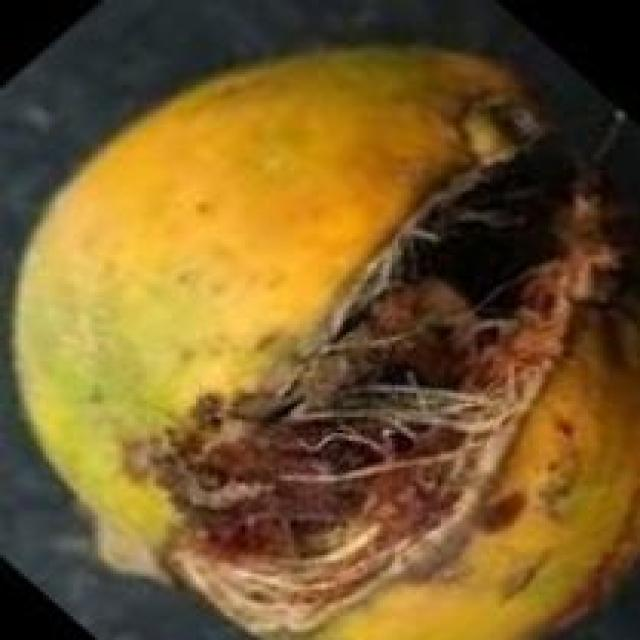damaged: (15, 48, 637, 637)
